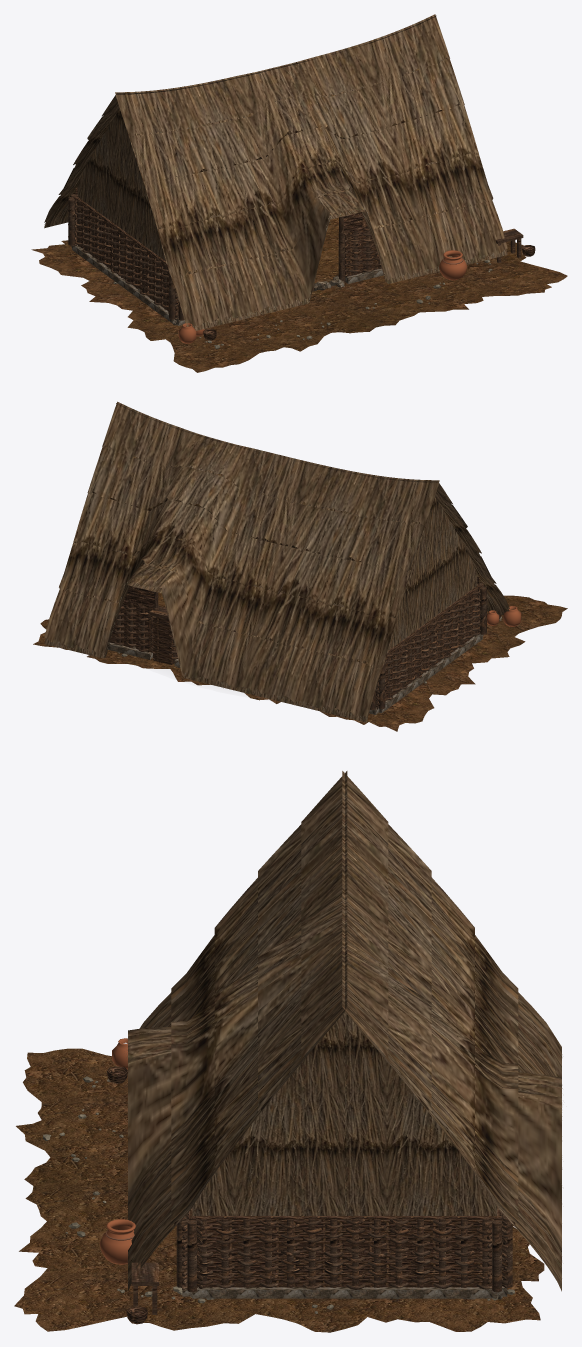
The model's file is study.glb.
3 renders of one model, top to bottom at view 1: azimuth 30°, elevation 25°; view 2: azimuth 150°, elevation 25°; view 3: azimuth 270°, elevation 25°, orthographic. The views are drawn at different scales.
Parts seen in each view (by area): view 1: part_13, part_1, part_5, part_6, part_7, part_4, part_0, part_9; view 2: part_13, part_1, part_5, part_6, part_7, part_4, part_9; view 3: part_13, part_1, part_5, part_6, part_7, part_4, part_9, part_2.
Part boxes in pixels (x1,y1,x2,y2): part_13: (44,14,507,330); part_1: (31,240,567,372); part_5: (73,188,535,340); part_6: (68,196,381,319); part_7: (68,194,523,320); part_4: (71,245,383,325); part_0: (314,217,338,283); part_9: (178,250,467,343); part_13: (44,401,509,722); part_1: (33,595,567,731); part_5: (110,561,501,707); part_6: (111,586,486,709); part_7: (117,582,486,710); part_4: (108,633,483,714); part_9: (487,606,521,626); part_13: (128,771,561,1291); part_1: (14,1048,544,1332); part_5: (106,1066,502,1324); part_6: (181,1214,507,1289); part_7: (131,1212,512,1314); part_4: (182,1278,507,1299); part_9: (99,1038,135,1264); part_2: (43,1076,514,1313).
Bounding box in the file's own units: 6.9 × 3.44 × 5.65.
14 materials, 10 textured.
